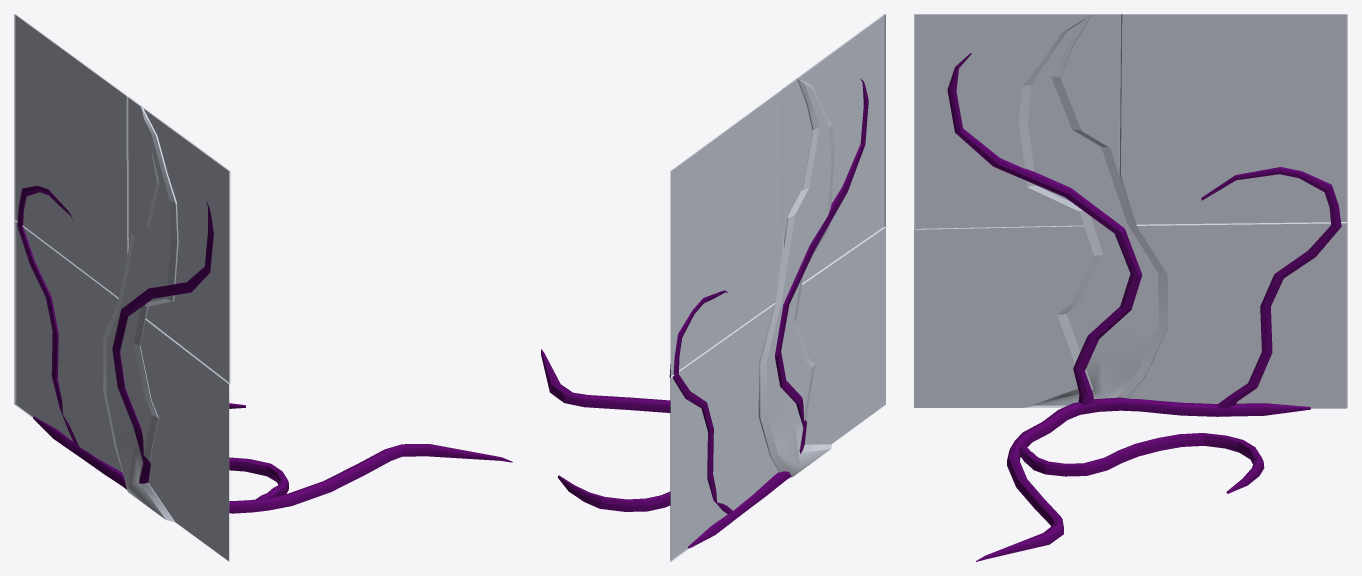
The model's file is Pared_Corrupta_06.fbx.
3 views of the same model, side by side, from view 1: azimuth 30°, elevation 25°; view 2: azimuth 150°, elevation 25°; view 3: azimuth 270°, elevation 25° (orthographic).
Parts seen in each view (by area): view 1: polySurface59, pCube173; view 2: polySurface59, pCube173; view 3: polySurface59, pCube173.
Boxes of the visible parts, left/top/right/bottom form: polySurface59: left=14, top=14, right=230, bottom=561; pCube173: left=17, top=185, right=512, bottom=513; polySurface59: left=670, top=14, right=885, bottom=561; pCube173: left=541, top=78, right=868, bottom=548; polySurface59: left=914, top=14, right=1347, bottom=408; pCube173: left=947, top=53, right=1341, bottom=561.
Size of the model in its own units: 5.18 by 6.09 by 5.98.
